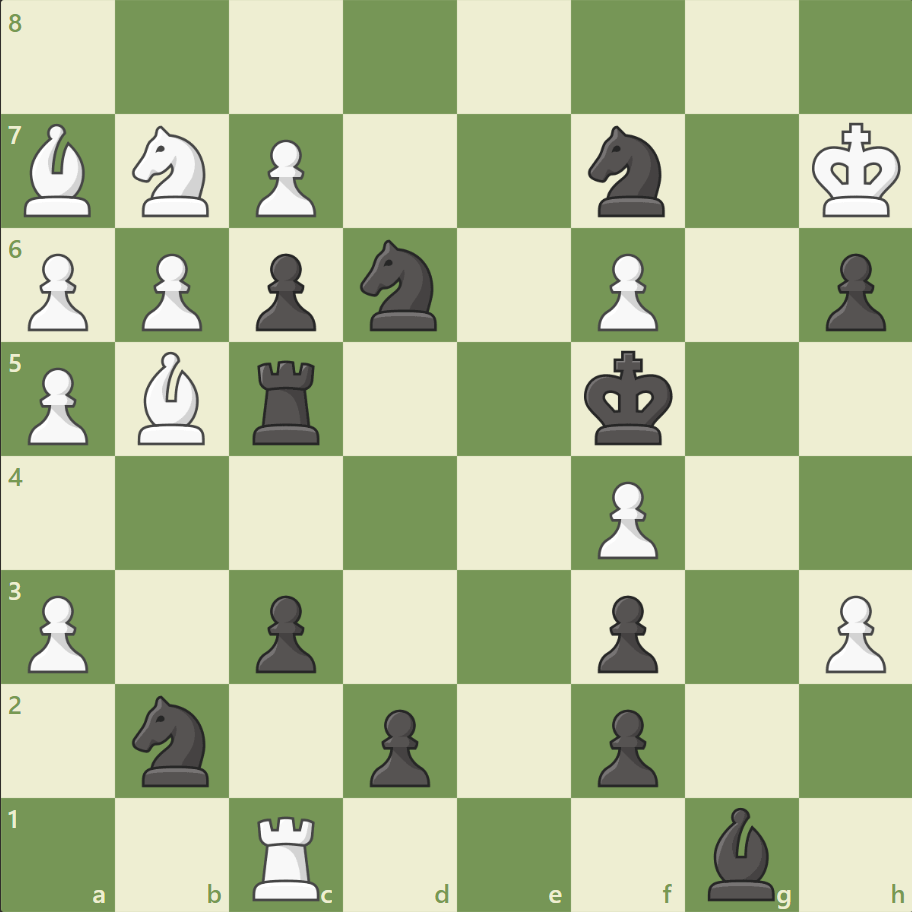B: (17, 120, 101, 222), (131, 347, 215, 449)
K: (806, 117, 906, 225)
N: (124, 121, 222, 223)
P: (247, 132, 322, 223), (20, 246, 95, 337), (133, 246, 208, 337), (20, 359, 95, 450), (20, 586, 95, 677), (588, 246, 662, 337), (588, 473, 662, 564), (815, 586, 889, 677)
R: (246, 806, 329, 904)
b: (698, 801, 782, 904)
k: (579, 344, 679, 452)
n: (351, 234, 449, 337), (124, 688, 222, 791), (579, 121, 676, 223)
p: (247, 246, 322, 337), (247, 586, 322, 677), (815, 246, 889, 337), (588, 586, 662, 677), (361, 700, 435, 791), (588, 700, 662, 791)
r: (246, 352, 329, 449)
